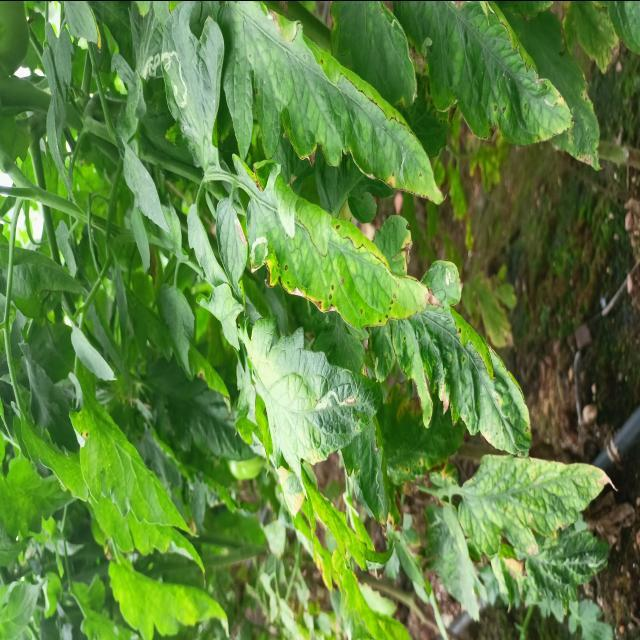Tomato mosaic virus leaf: (262, 211, 446, 337), (474, 14, 568, 152), (346, 86, 448, 206)
